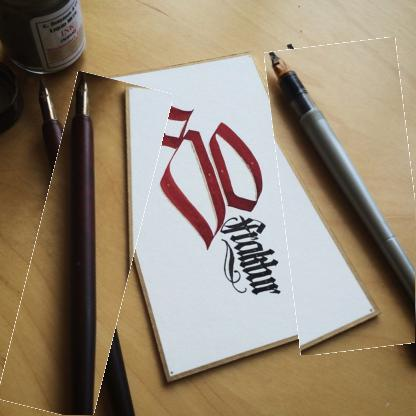Pen: (16, 74, 154, 415), (273, 40, 415, 354)
